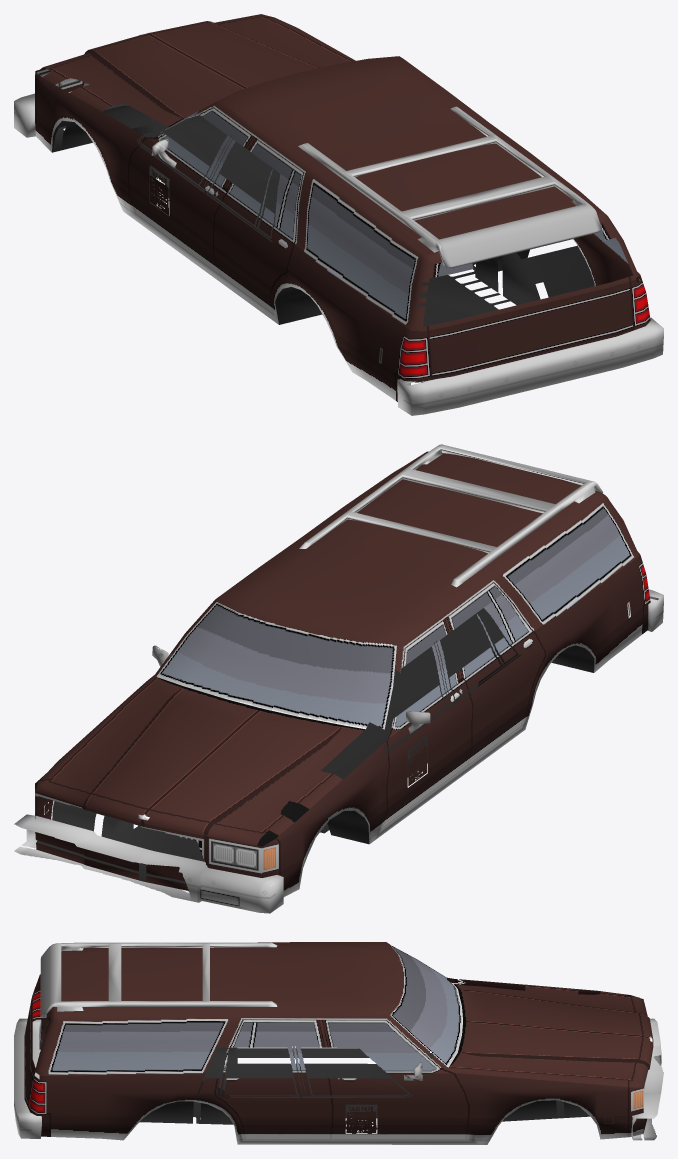
Rendered from 86capricewagon.fbx.
3 views of the same model, one above another, from view 1: azimuth 30°, elevation 25°; view 2: azimuth 150°, elevation 25°; view 3: azimuth 270°, elevation 25° (orthographic). The views are drawn at different scales.
Visible parts, largest first — view 1: 86capricewagon; view 2: 86capricewagon; view 3: 86capricewagon.
Part boxes in pixels (x1,y1,x2,y2): 86capricewagon: [14, 14, 663, 415]; 86capricewagon: [14, 444, 663, 913]; 86capricewagon: [14, 942, 663, 1144].
Bounding box in the file's own units: 2.12 × 1.13 × 5.37.
